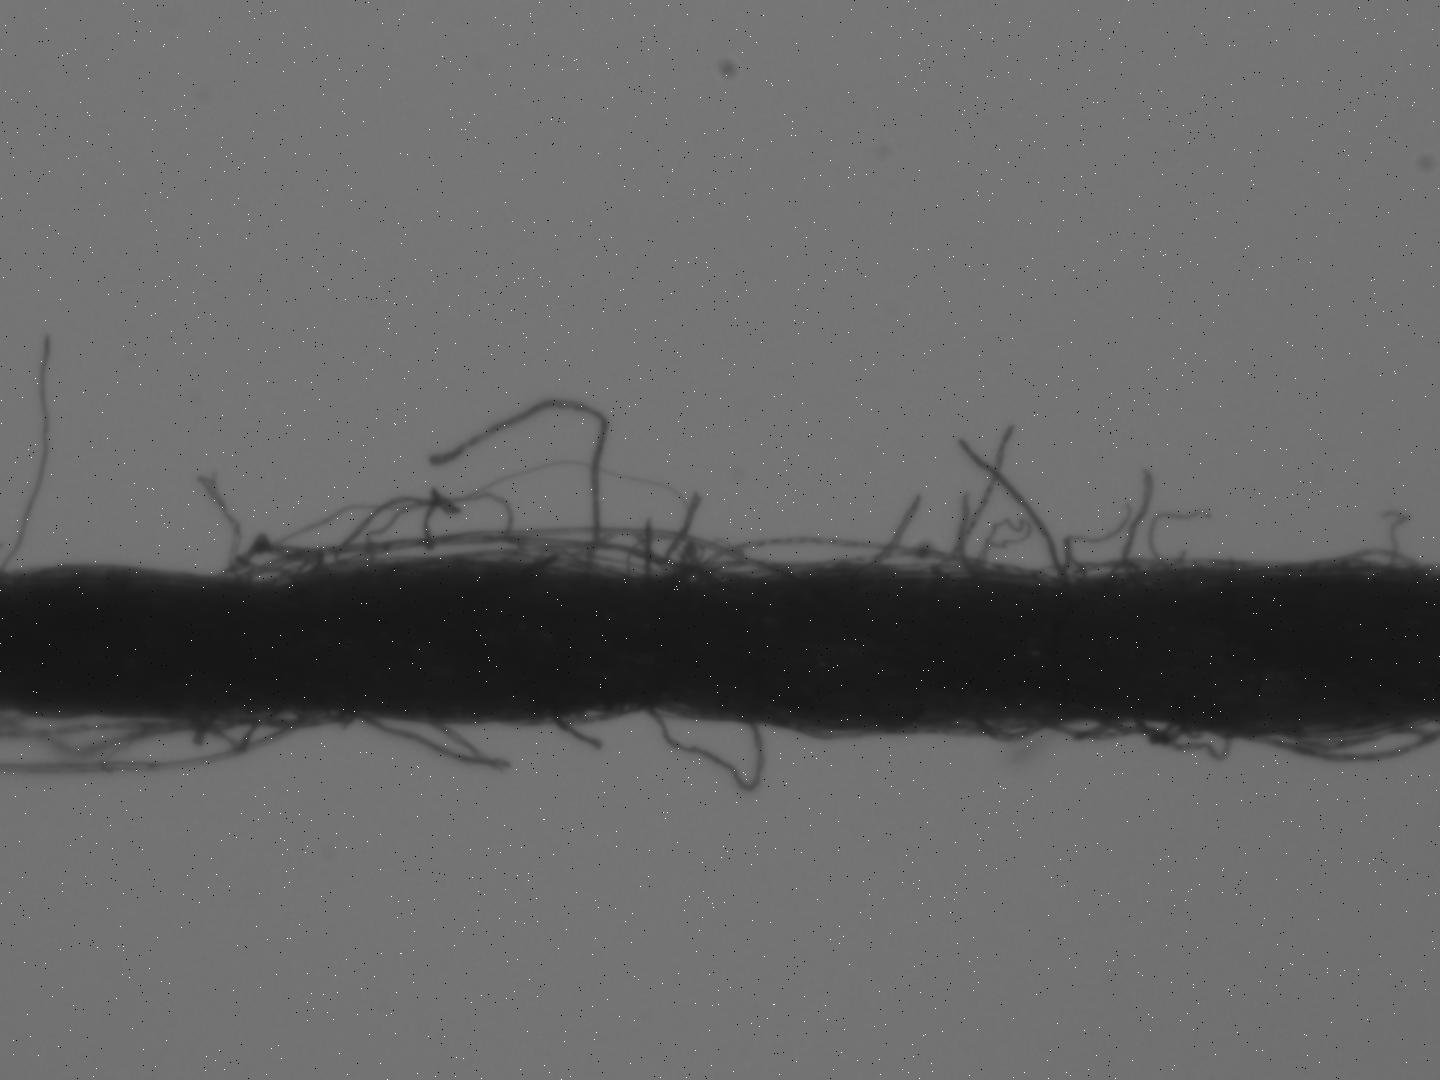loop_fiber: (245, 535, 679, 580), (697, 533, 966, 585), (645, 708, 763, 794), (9, 715, 238, 754), (1233, 727, 1426, 765), (218, 534, 323, 587), (1136, 719, 1228, 760), (194, 714, 279, 749), (1094, 717, 1186, 749), (1314, 549, 1415, 574), (979, 723, 1043, 742)
protruding_fiber: (431, 398, 607, 577), (957, 440, 1073, 587), (933, 424, 1015, 573), (2, 336, 51, 572), (361, 720, 508, 769), (1110, 472, 1155, 575), (870, 493, 925, 568), (202, 481, 237, 582), (550, 720, 600, 748), (642, 525, 652, 573)
